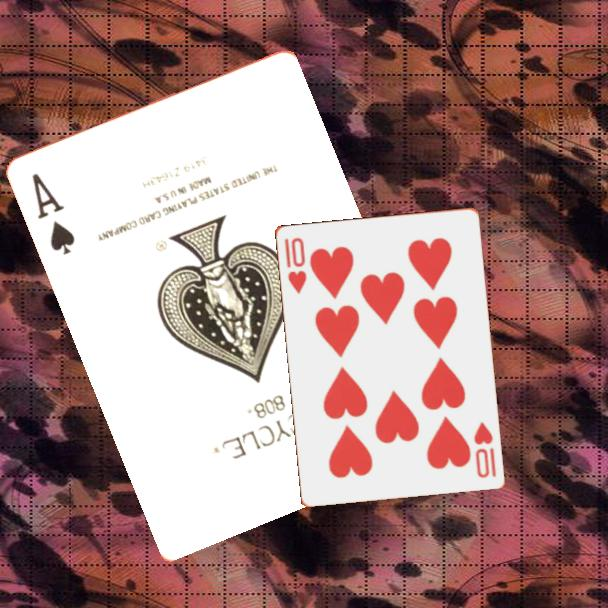h10: (470, 418, 499, 480), (281, 234, 309, 296)
s01: (28, 170, 79, 258)
